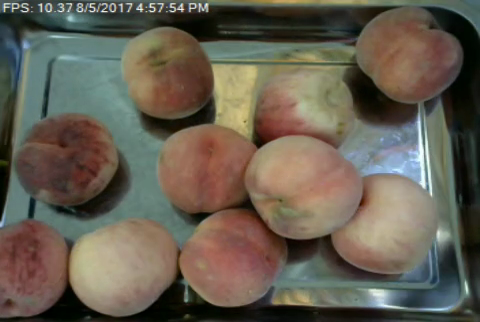Peach: (244, 135, 361, 239), (354, 5, 464, 104), (331, 172, 437, 273), (181, 208, 286, 308), (70, 219, 176, 315), (15, 112, 117, 205), (121, 24, 215, 117), (158, 125, 257, 210), (254, 70, 356, 145)
